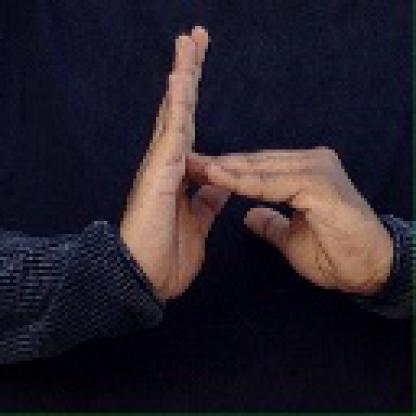Z: (122, 15, 366, 296)
